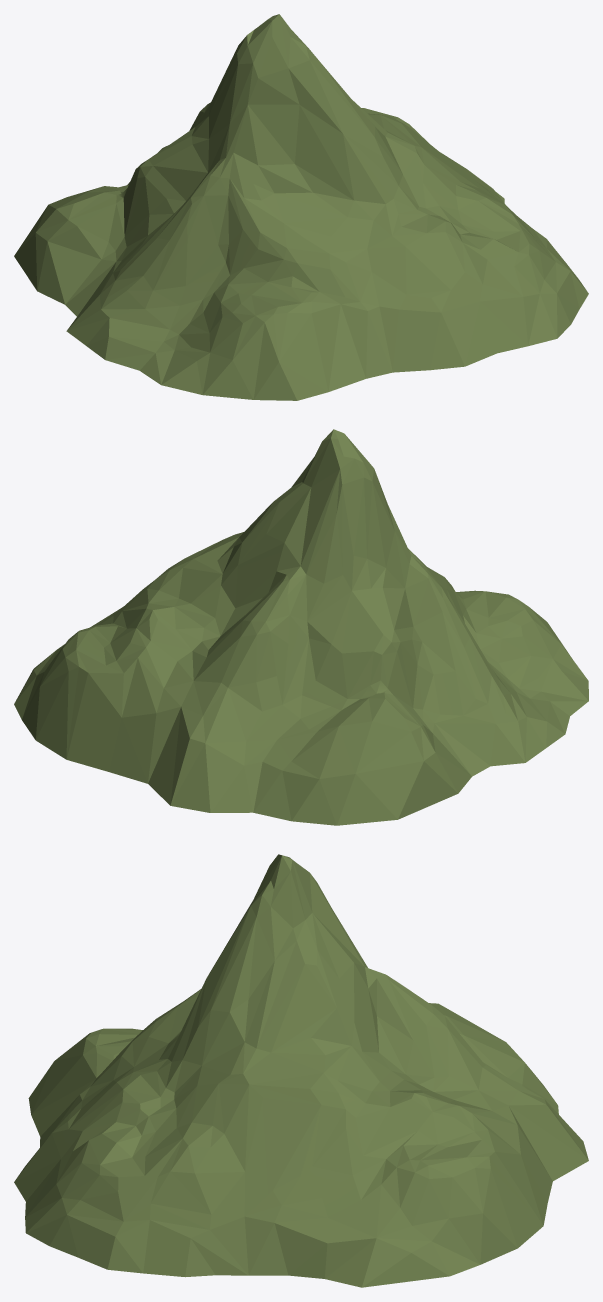
File: SM_Terrain_Mountain_02.glb
The picture shows the model from 3 angles, top to bottom: view 1: azimuth 30°, elevation 25°; view 2: azimuth 150°, elevation 25°; view 3: azimuth 270°, elevation 25°; orthographic projection. The views are drawn at different scales.
Parts seen in each view (by area): view 1: SM_Terrain_Mountain_02; view 2: SM_Terrain_Mountain_02; view 3: SM_Terrain_Mountain_02.
Part boxes in pixels (left/top/right/bottom): SM_Terrain_Mountain_02: left=14, top=14, right=588, bottom=400; SM_Terrain_Mountain_02: left=14, top=429, right=588, bottom=825; SM_Terrain_Mountain_02: left=14, top=854, right=588, bottom=1287.
Bounding box in the file's own units: 29.09 × 16.48 × 29.08.
Materials: 1 (1 with a texture image).
